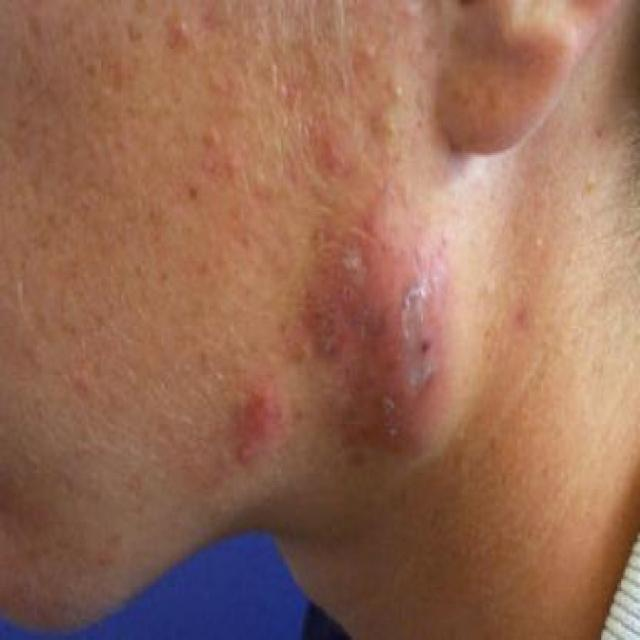Acne: (320, 202, 478, 473), (314, 204, 466, 477), (209, 363, 300, 479), (165, 0, 200, 43)
Whiteheads: (356, 33, 390, 63), (386, 71, 416, 104), (195, 118, 228, 147), (225, 145, 246, 183)
